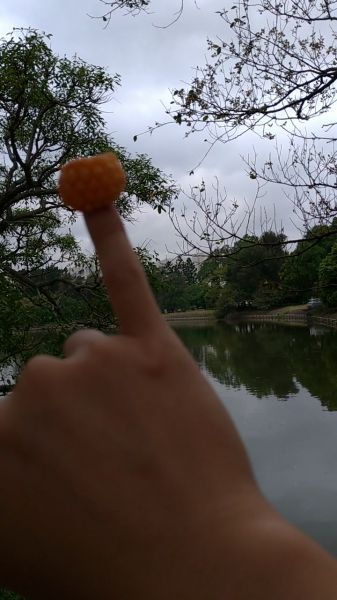eggs: (59, 153, 127, 209)
